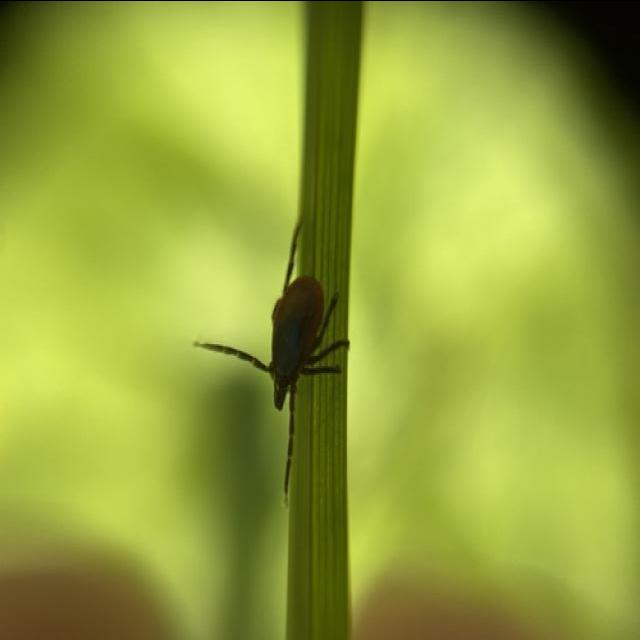Ixodes Ricinus-F: (193, 224, 351, 507)
